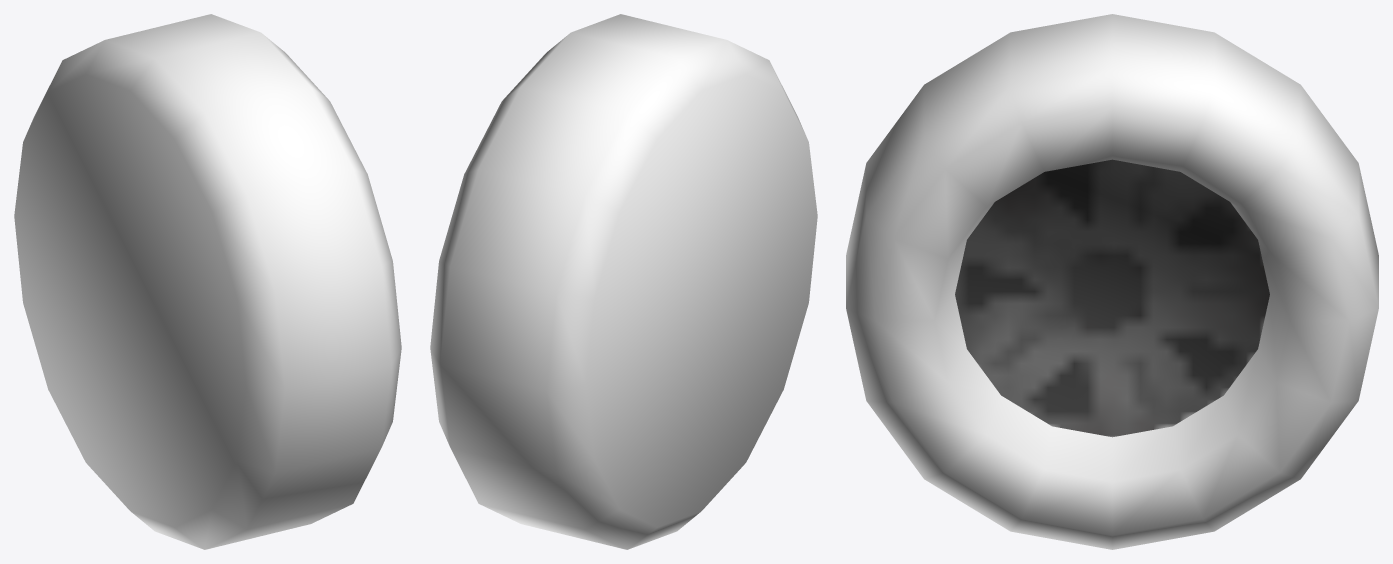
File: Stage_1007_Obj_17.fbx
3 renders of one model, left to right at view 1: azimuth 30°, elevation 25°; view 2: azimuth 150°, elevation 25°; view 3: azimuth 270°, elevation 25°, orthographic. The views are drawn at different scales.
Parts seen in each view (by area): view 1: Cylinder.002; view 2: Cylinder.002; view 3: Cylinder.002.
Boxes of the visible parts, <box> form: Cylinder.002: <box>14,14,401,549</box>; Cylinder.002: <box>430,14,817,549</box>; Cylinder.002: <box>846,14,1378,549</box>.
Bounding box in the file's own units: 25.91 × 75.21 × 75.21.
